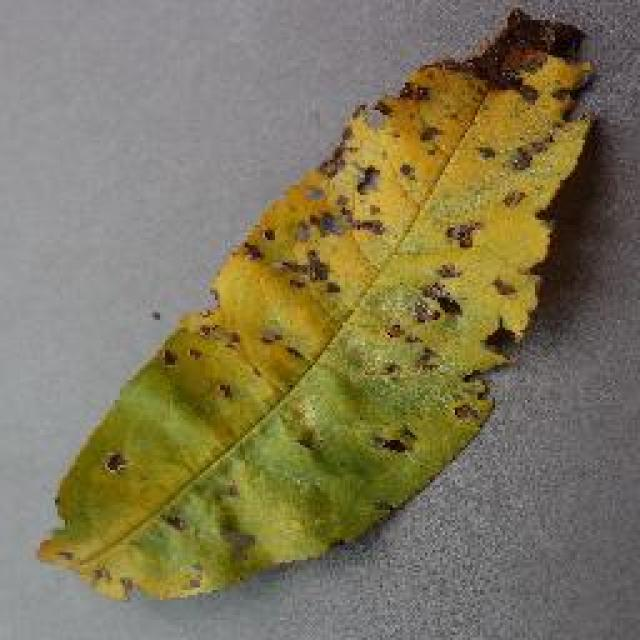Peach_Bacterial_Spot: (204, 105, 568, 475)
